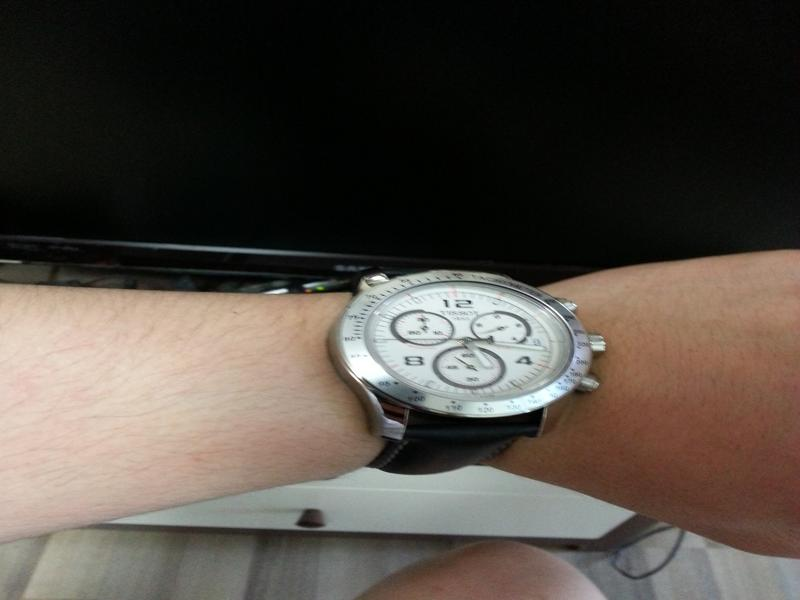watch: (333, 263, 611, 477)
